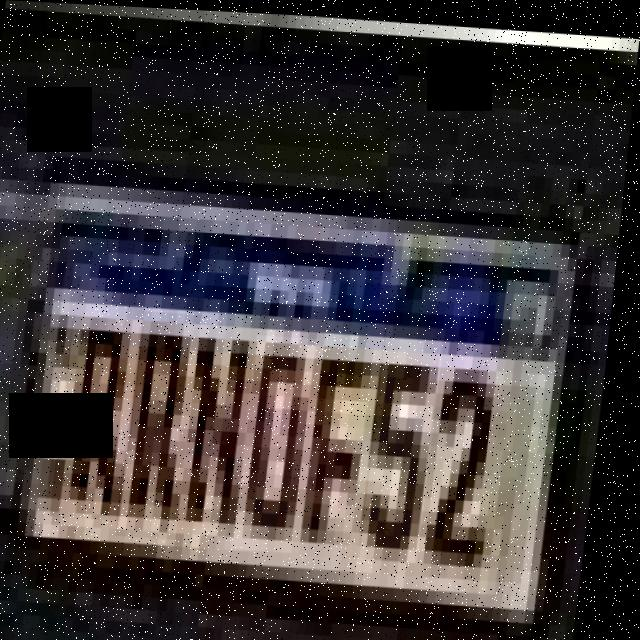0: (241, 331, 324, 549)
5: (370, 321, 451, 558)
F: (290, 334, 384, 552)
N: (182, 320, 274, 527)
R: (126, 308, 208, 537), (61, 315, 150, 519)
